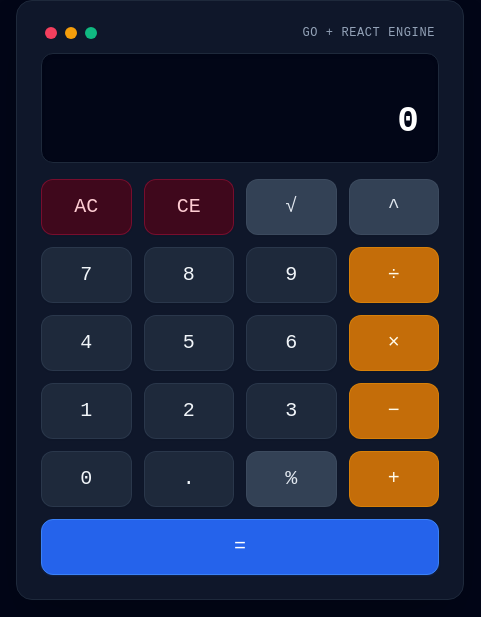
Test: Calculator Component Integration & User Interactions › executes addition calculation successfully
Click the button "3": [291, 411] box [246,383,336,439]
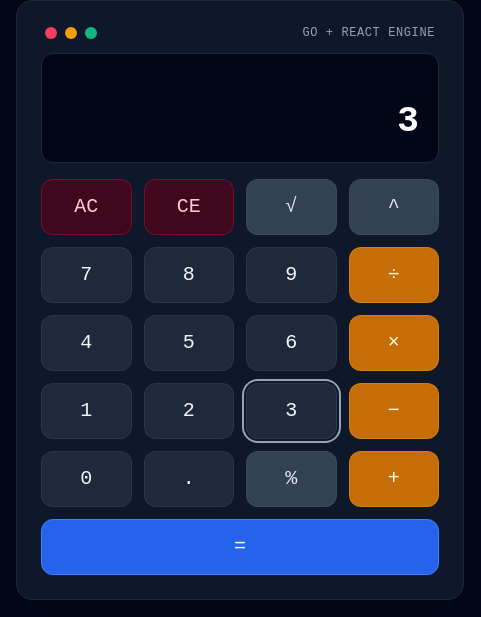
Click the button named "Add": [394, 479] box [348,451,439,507]
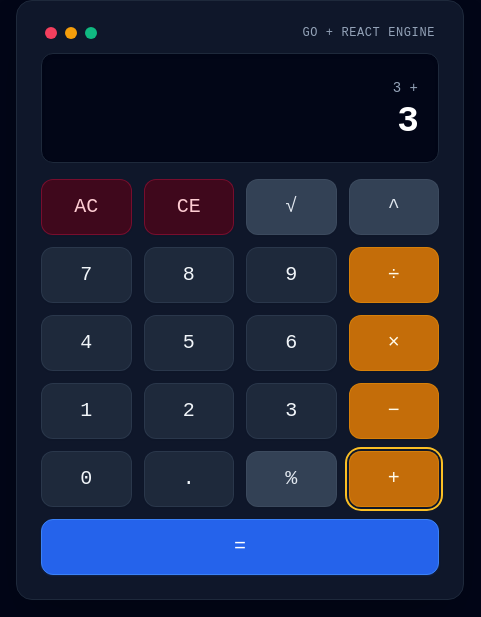
Click the button "4": [86, 343] box [41,315,132,371]
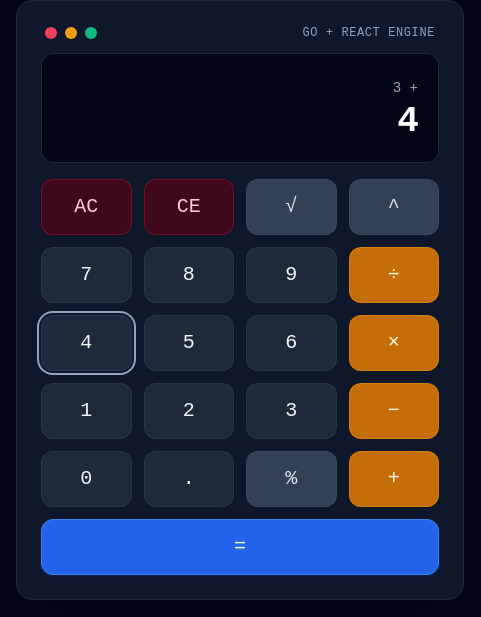
Click the button named "Calculate": [240, 547] box [41,519,439,575]
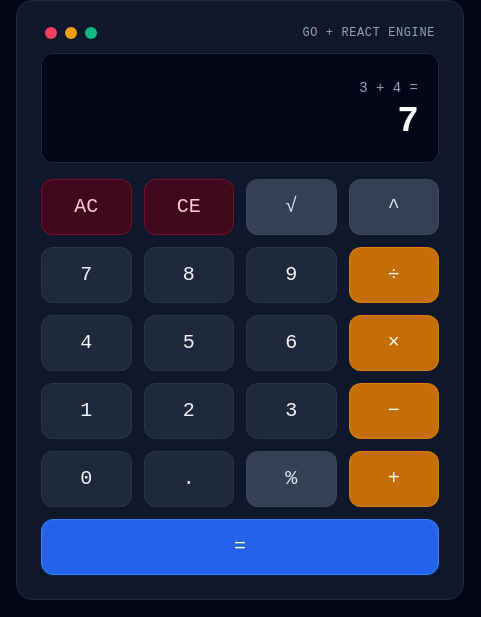
Result: the text with test id "calculator-display" reads "7" at [397,101,418,142]
